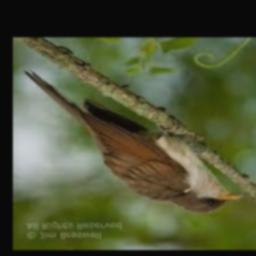Cuckoo: (22, 69, 242, 214)
